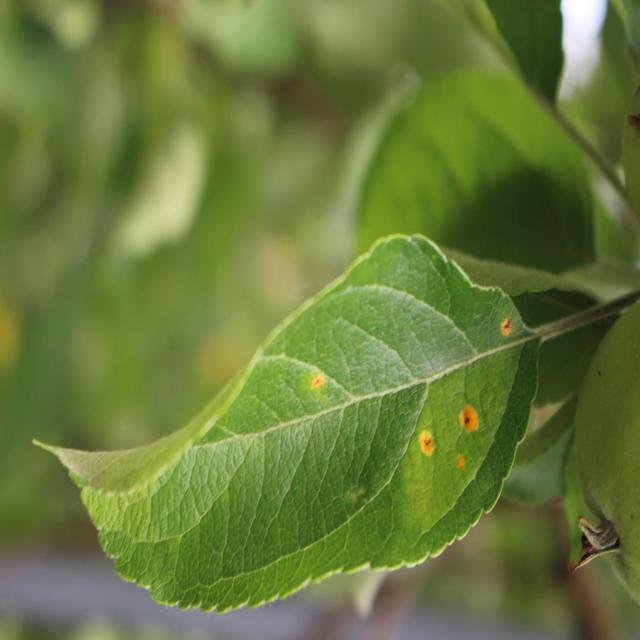Rust: (456, 404, 484, 439), (419, 422, 436, 462), (309, 369, 327, 396), (498, 312, 514, 342), (454, 452, 468, 475)
